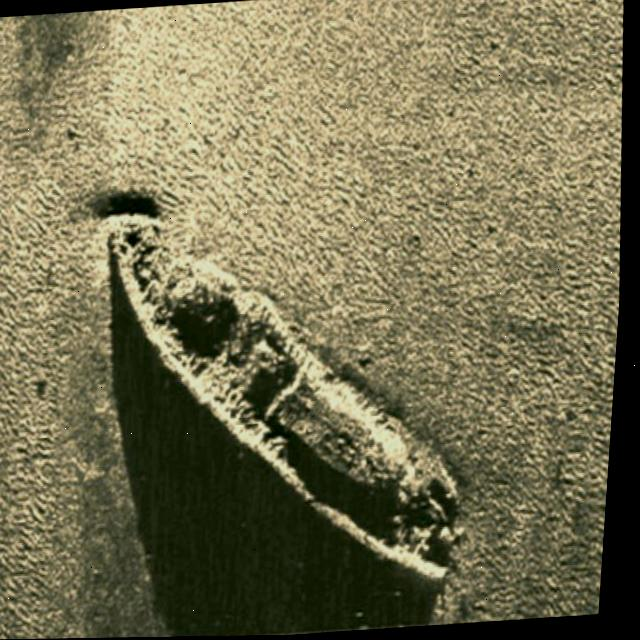shipwreck: (93, 196, 487, 605)
